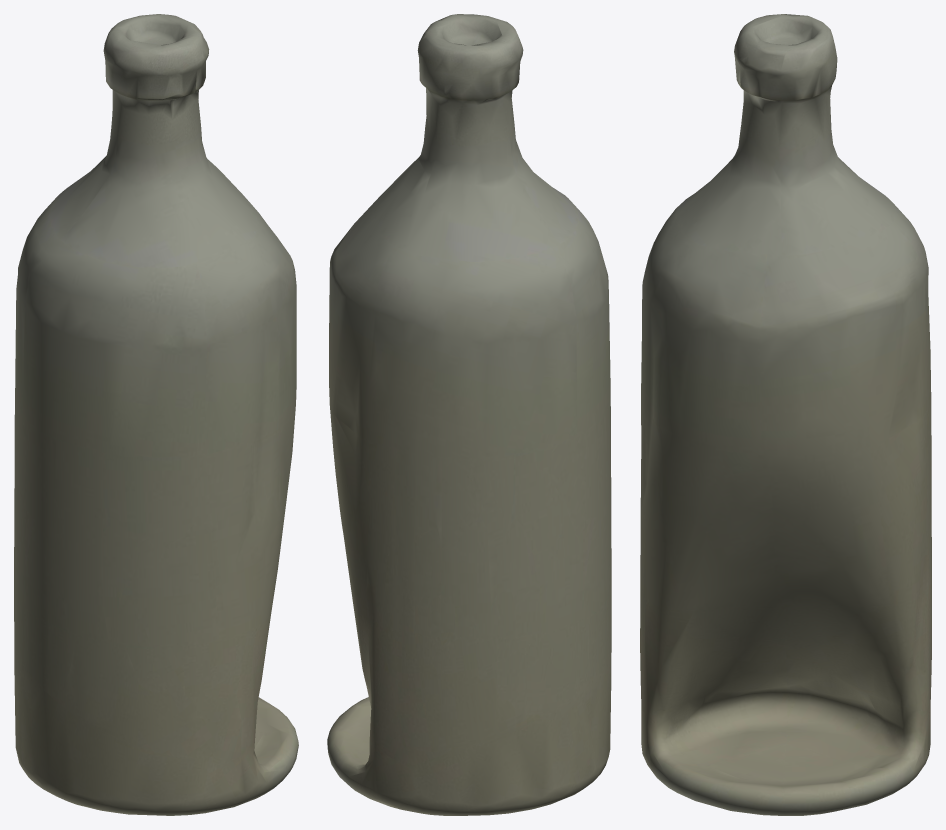
The model's file is Light_Green_Bottle.glb.
3 views of the same model, side by side, from view 1: azimuth 30°, elevation 25°; view 2: azimuth 150°, elevation 25°; view 3: azimuth 270°, elevation 25° (orthographic).
Visible parts, largest first — view 1: tripo_node_c7727636-55a3-4227-8e64-04dd24dcc599; view 2: tripo_node_c7727636-55a3-4227-8e64-04dd24dcc599; view 3: tripo_node_c7727636-55a3-4227-8e64-04dd24dcc599.
Boxes of the visible parts, box(x1,y1,x2,y2) form: tripo_node_c7727636-55a3-4227-8e64-04dd24dcc599: box(14, 14, 298, 815); tripo_node_c7727636-55a3-4227-8e64-04dd24dcc599: box(327, 14, 611, 815); tripo_node_c7727636-55a3-4227-8e64-04dd24dcc599: box(640, 14, 931, 815).
Bounding box in the file's own units: 0.3455 × 0.9801 × 0.3534.
Materials: 1 (1 with a texture image).
